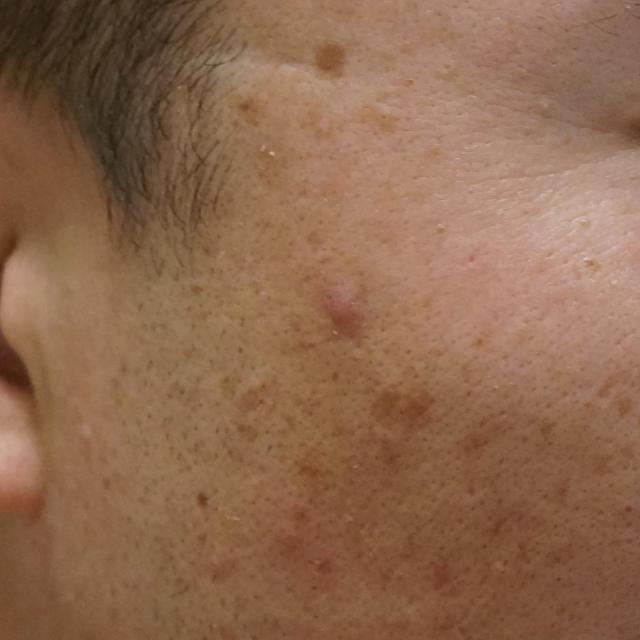nodule: (298, 275, 376, 355)
